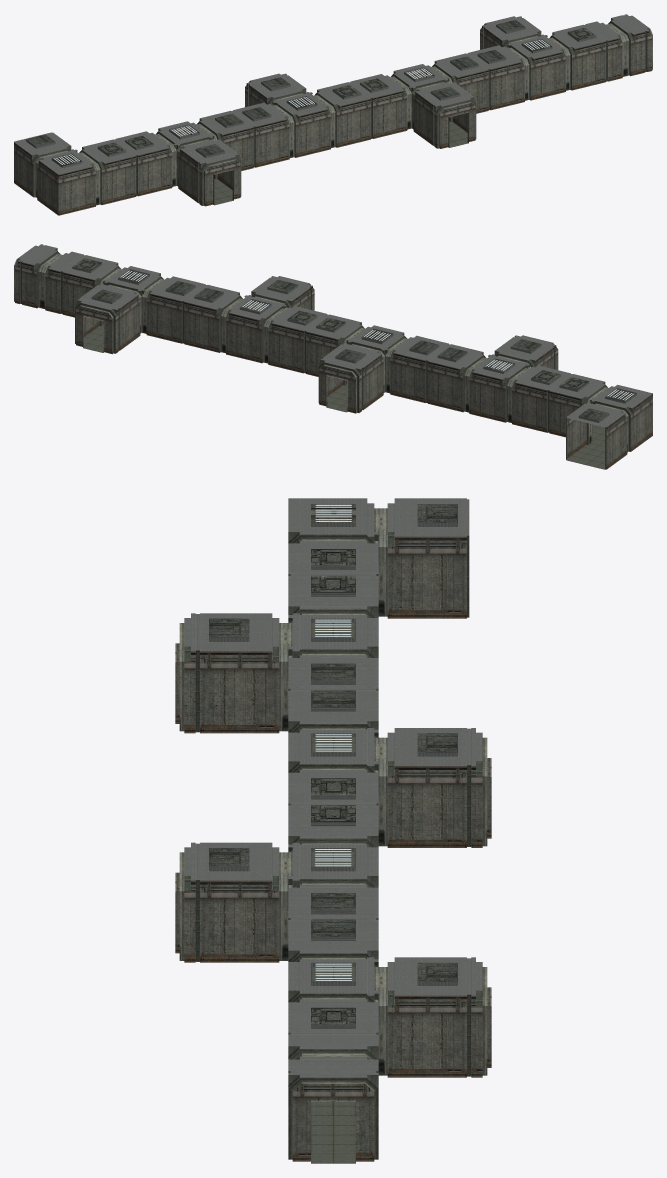
The model's file is poi_all_impl_bunker_crimelord_retreat_s01_r14_hallway05_mesh_r14.fbx.
3 renders of one model, top to bottom at view 1: azimuth 30°, elevation 25°; view 2: azimuth 150°, elevation 25°; view 3: azimuth 270°, elevation 25°, orthographic. The views are drawn at different scales.
Parts seen in each view (by area): view 1: mesh_node; view 2: mesh_node; view 3: mesh_node.
Boxes of the visible parts, <box> form: mesh_node: <box>14,14,652,215</box>; mesh_node: <box>14,244,652,469</box>; mesh_node: <box>175,498,491,1163</box>.
Bounding box in the file's own units: 61 × 4.2 × 14.
